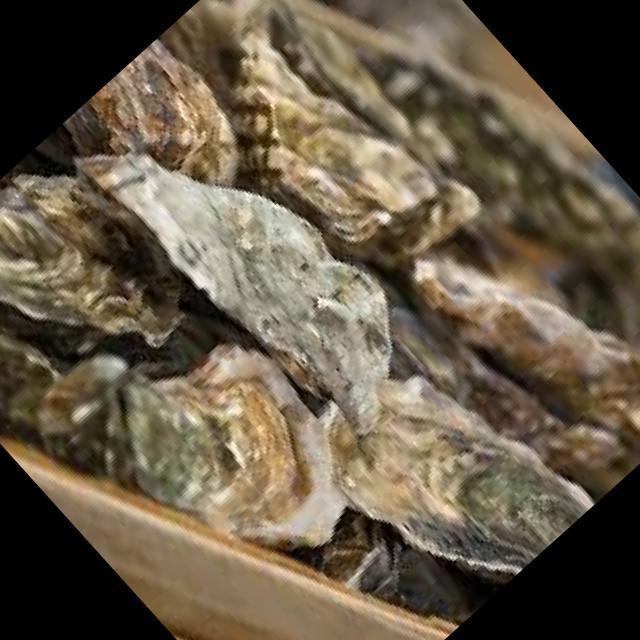Oyster- Indeterminate: (62, 83, 430, 423), (299, 349, 599, 616), (104, 323, 356, 592), (58, 24, 261, 192), (0, 174, 189, 348)
Oyster-Closed: (171, 14, 486, 313)
